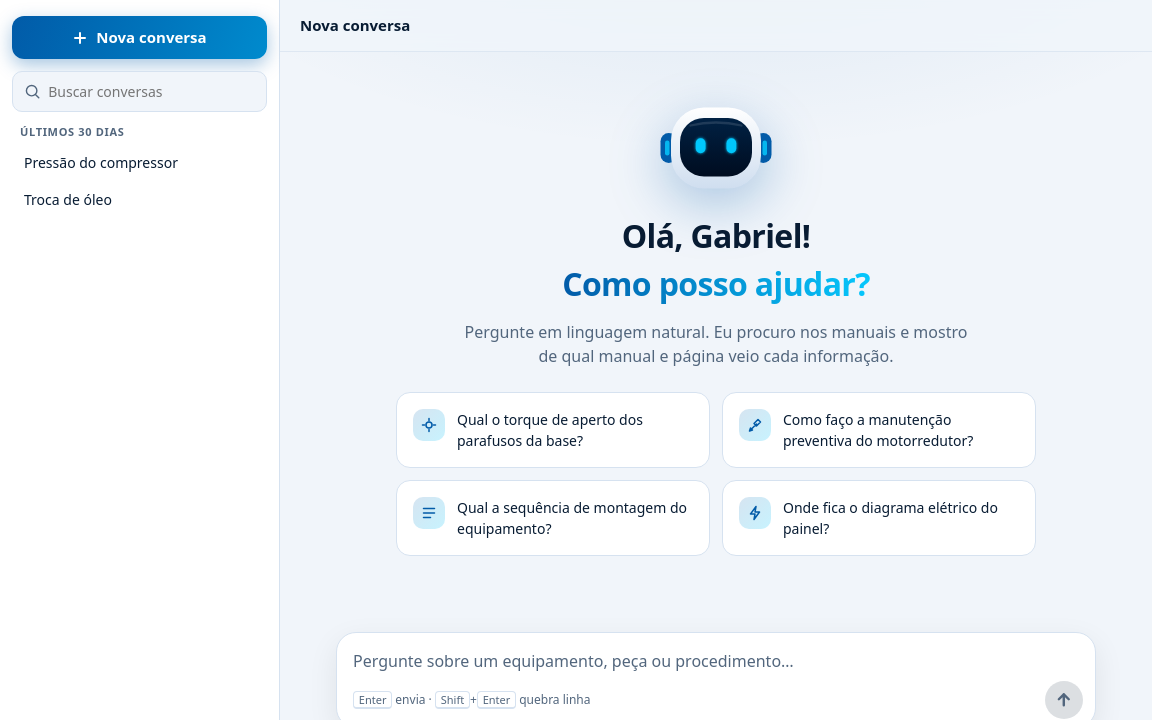
<ChatPage /> › opens a conversation from the history
This screenshot has width=1152, height=720.
Click the link "Pressão do compressor" at (101, 163), box [24,153,178,172]
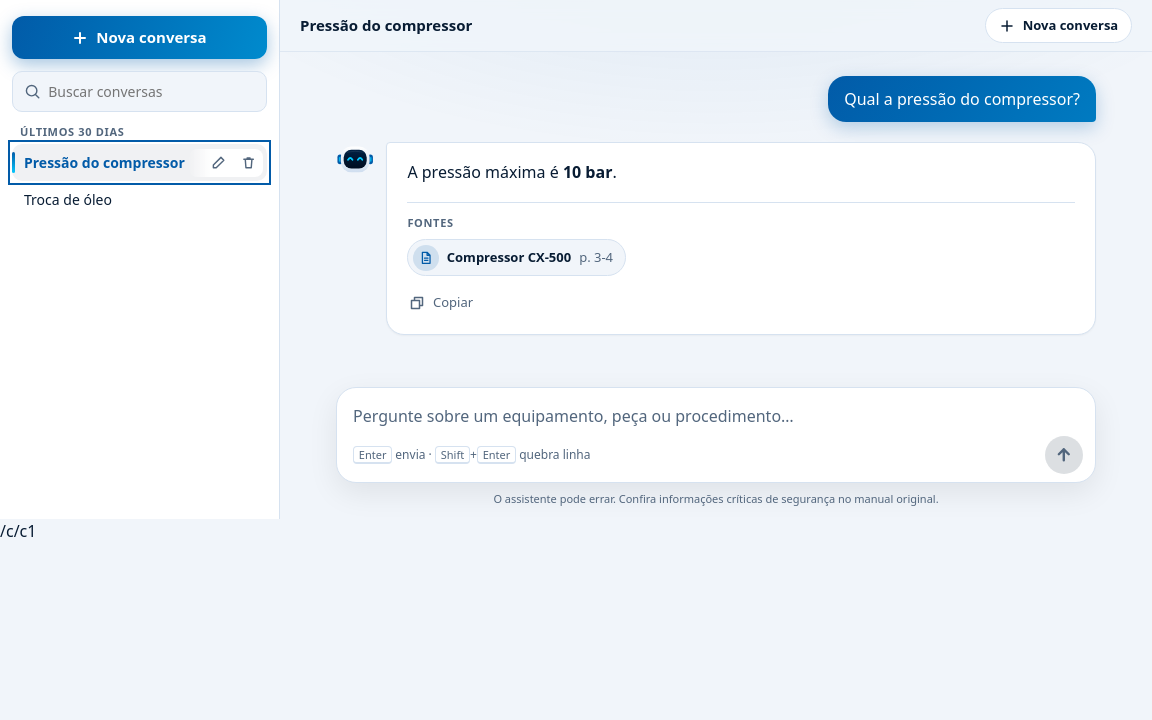
Now the text "Qual a pressão do compressor?" is shown, box [828,76,1096,122]
Now the text "10 bar" is shown, box [563,161,612,183]
Now the heading "Pressão do compressor" is shown, box [300,15,472,35]
